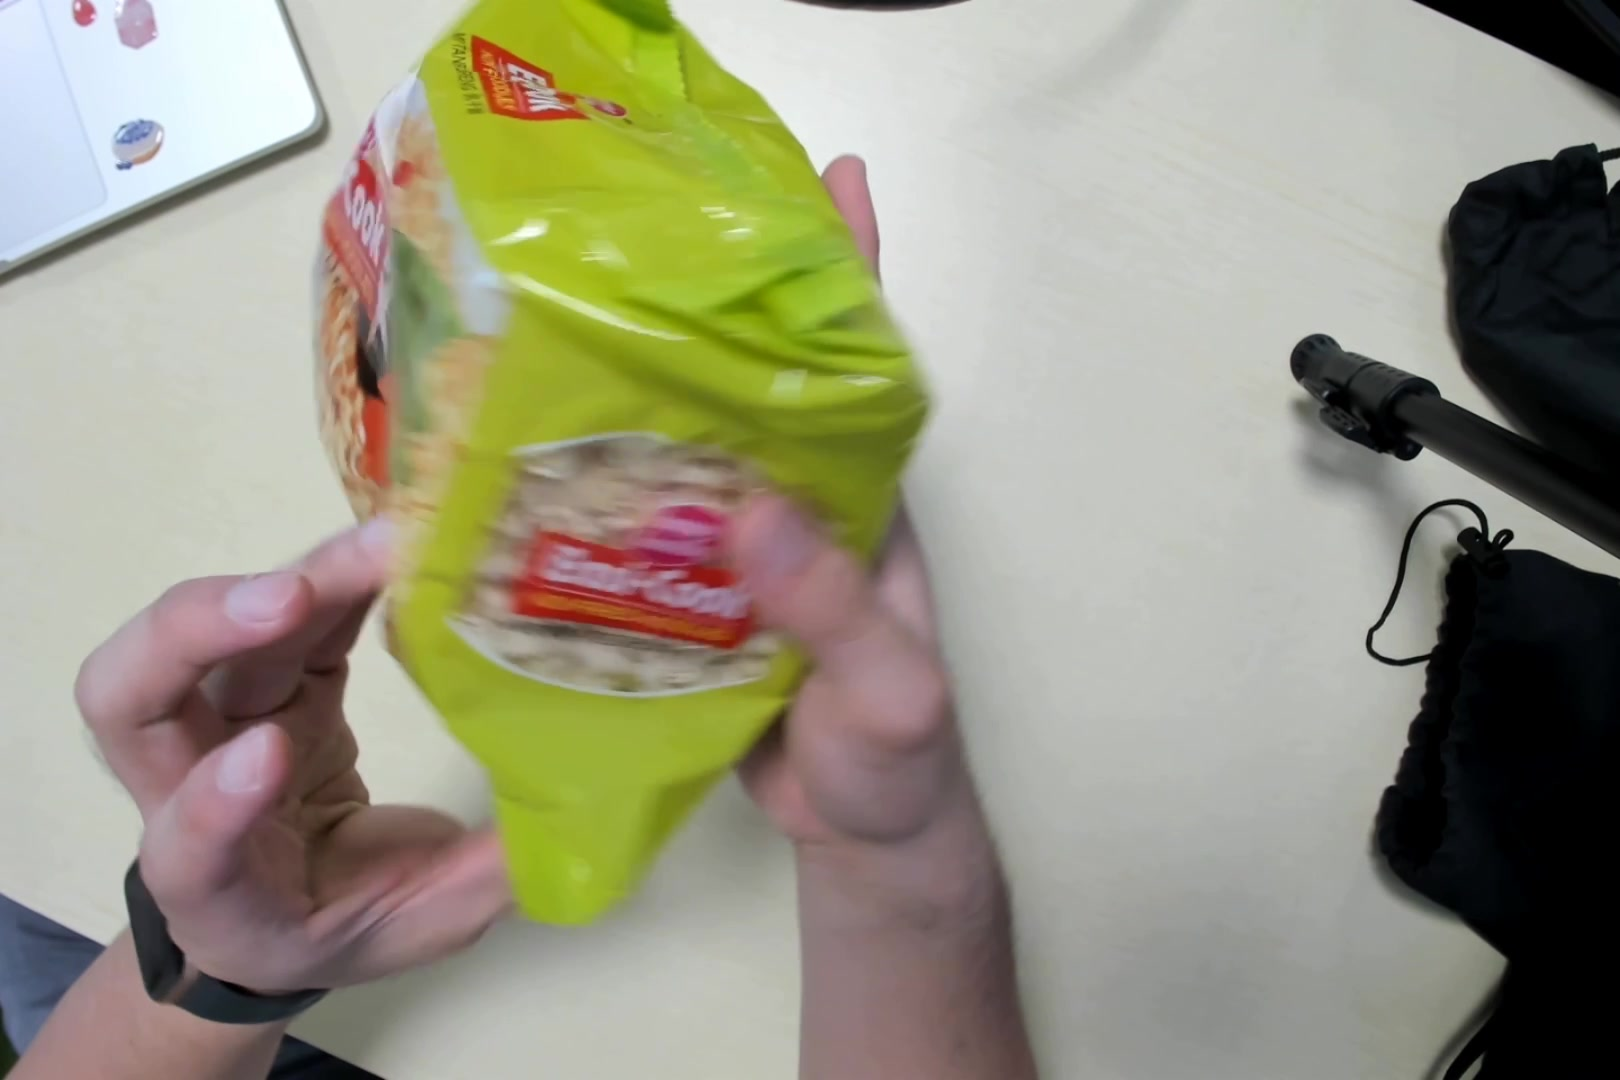OtherNoodles_300-399g_Halal_NonHealthy: (319, 2, 927, 893)
